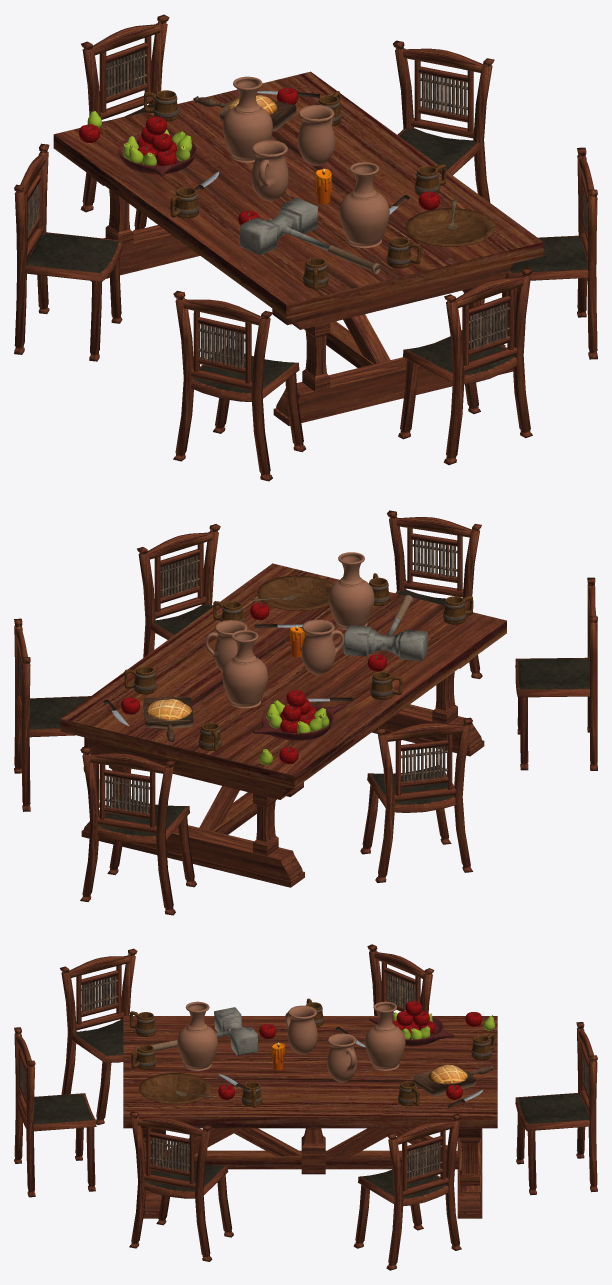
3 views of the same model, one above another, from view 1: azimuth 30°, elevation 25°; view 2: azimuth 150°, elevation 25°; view 3: azimuth 270°, elevation 25° (orthographic). The views are drawn at different scales.
Parts seen in each view (by area): view 1: medieval Table_4, medieval chair.004_22, medieval chair.005_23, medieval chair.003_21, medieval chair.001_19, medieval chair.002_20, medieval chair_2, medieval sledgehammer_10, wine jug.001_29, wine jug_28, medieval dish_30, medieval water jar.001_27 (+8 smaller); view 2: medieval Table_4, medieval chair.002_20, medieval chair.003_21, medieval chair_2, medieval chair.005_23, medieval chair.004_22, medieval chair.001_19, medieval sledgehammer_10, wine jug_28, wine jug.001_29, medieval dish_30, medieval water jar_8 (+9 smaller); view 3: medieval Table_4, medieval chair_2, medieval chair.001_19, medieval chair.004_22, medieval chair.002_20, medieval chair.005_23, medieval chair.003_21, wine jug.001_29, wine jug_28, medieval dish_30, medieval sledgehammer_10, medieval water jar_8 (+9 smaller).
Boxes of the visible parts, <box> form: medieval Table_4: <box>53,71,543,425</box>; medieval chair.004_22: <box>173,290,305,481</box>; medieval chair.005_23: <box>398,267,532,464</box>; medieval chair.003_21: <box>14,143,122,361</box>; medieval chair.001_19: <box>393,40,494,202</box>; medieval chair.002_20: <box>80,14,169,230</box>; medieval chair_2: <box>502,147,597,359</box>; medieval sledgehammer_10: <box>239,197,381,274</box>; wine jug.001_29: <box>339,162,389,247</box>; wine jug_28: <box>222,76,272,162</box>; medieval dish_30: <box>405,208,495,247</box>; medieval water jar.001_27: <box>297,105,335,165</box>; medieval Table_4: <box>60,563,506,887</box>; medieval chair.002_20: <box>80,747,196,915</box>; medieval chair.003_21: <box>360,717,472,882</box>; medieval chair_2: <box>137,524,220,657</box>; medieval chair.005_23: <box>387,510,482,702</box>; medieval chair.004_22: <box>515,577,597,770</box>; medieval chair.001_19: <box>14,618,99,811</box>; medieval sledgehammer_10: <box>343,595,427,660</box>; wine jug_28: <box>222,630,267,708</box>; wine jug.001_29: <box>328,552,374,630</box>; medieval dish_30: <box>257,575,333,611</box>; medieval water jar_8: <box>301,619,344,675</box>; medieval Table_4: <box>123,1016,497,1218</box>; medieval chair_2: <box>129,1111,233,1261</box>; medieval chair.001_19: <box>353,1113,461,1270</box>; medieval chair.004_22: <box>60,948,137,1124</box>; medieval chair.002_20: <box>515,1022,597,1195</box>; medieval chair.005_23: <box>14,1027,96,1197</box>; medieval chair.003_21: <box>367,944,434,1015</box>; wine jug.001_29: <box>177,1001,217,1070</box>; wine jug_28: <box>365,1001,405,1070</box>; medieval dish_30: <box>138,1073,211,1104</box>; medieval sledgehammer_10: <box>135,1007,258,1055</box>; medieval water jar_8: <box>285,1005,317,1054</box>.
Bounding box in the file's own units: 5.15 × 2.06 × 6.58.
22 materials, 21 textured.
